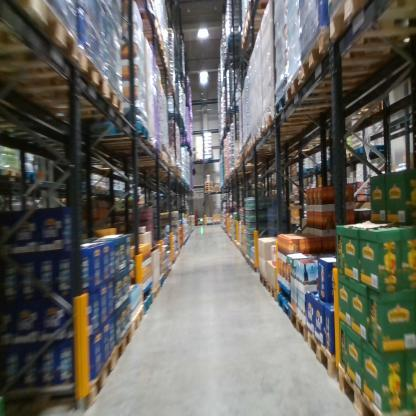pallets: (259, 282, 399, 416), (272, 0, 416, 128), (0, 0, 122, 138), (73, 302, 147, 411), (135, 272, 166, 323)
